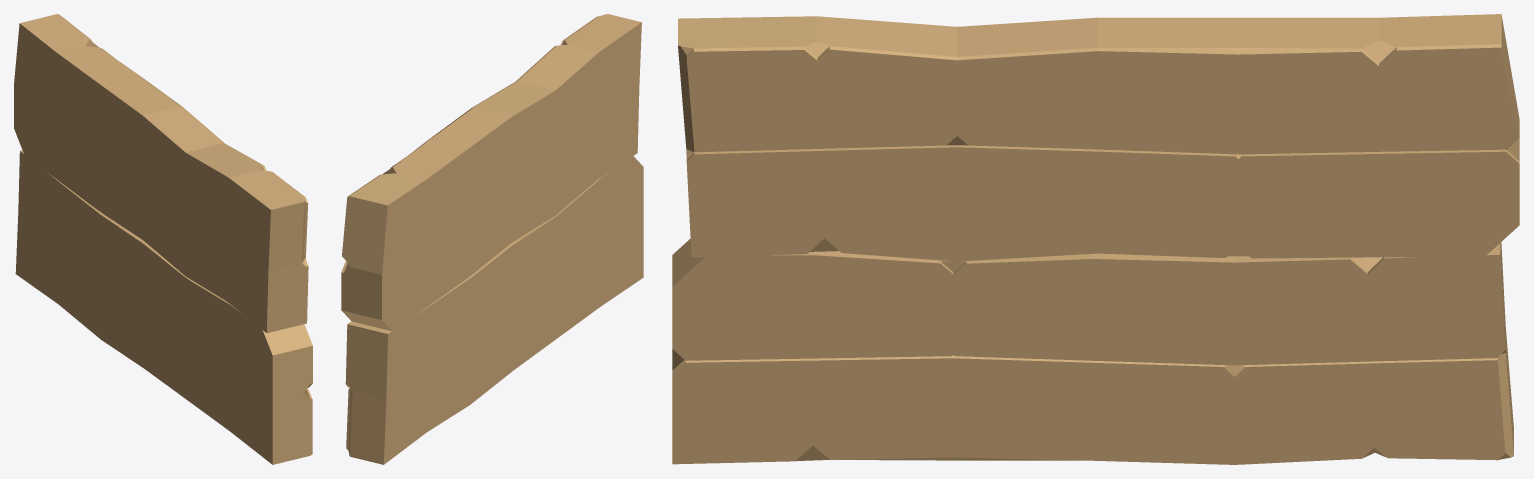
The model's file is placa.fbx.
The picture shows the model from 3 angles, left to right: view 1: azimuth 30°, elevation 25°; view 2: azimuth 150°, elevation 25°; view 3: azimuth 270°, elevation 25°; orthographic projection. The views are drawn at different scales.
Visible parts, largest first — view 1: Cube; view 2: Cube; view 3: Cube.
Part boxes in pixels (x1,y1,x2,y2): Cube: (14, 14, 312, 464); Cube: (341, 14, 643, 464); Cube: (672, 14, 1519, 464).
Size of the model in its own units: 18.06 by 110 by 201.
